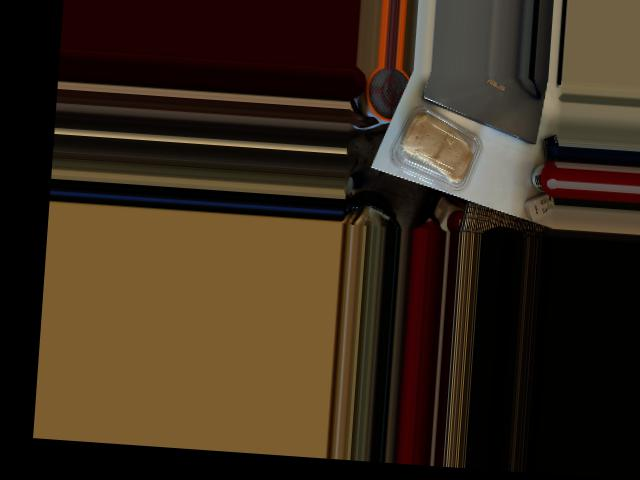cheese: (381, 102, 488, 193)
